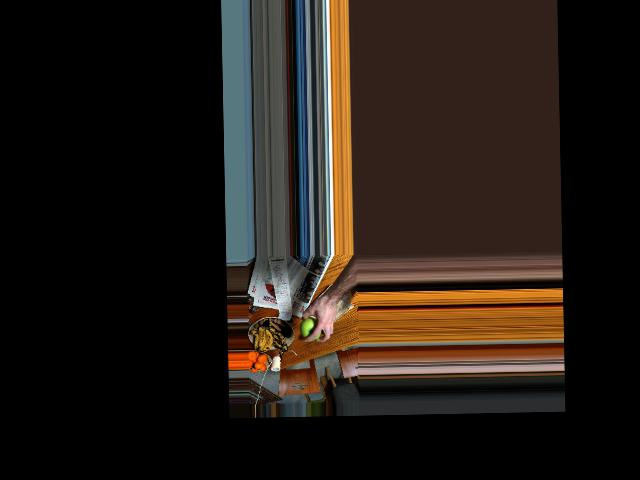apple: (300, 315, 321, 342)
